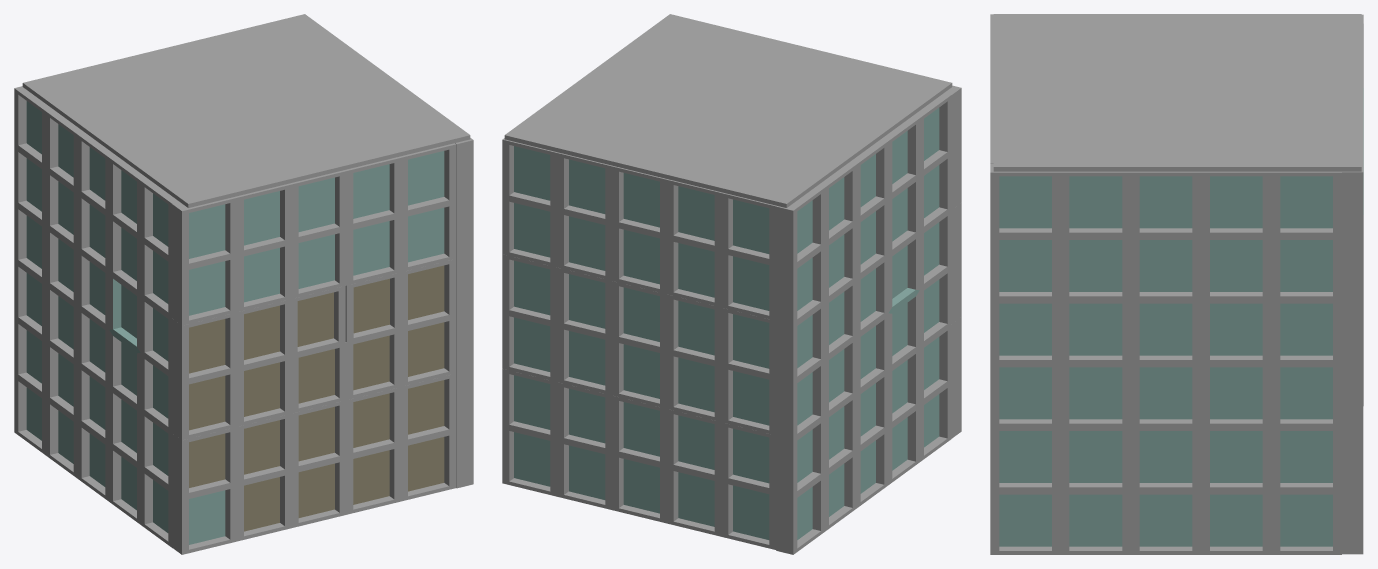
The model's file is Apartment by itself.fbx.
3 renders of one model, left to right at view 1: azimuth 30°, elevation 25°; view 2: azimuth 150°, elevation 25°; view 3: azimuth 270°, elevation 25°, orthographic. The views are drawn at different scales.
Parts seen in each view (by area): view 1: polySurface4576; view 2: polySurface4576; view 3: polySurface4576.
Part boxes in pixels (box(x1,y1,x2,y2)): polySurface4576: box(14, 14, 473, 554); polySurface4576: box(502, 14, 961, 554); polySurface4576: box(990, 14, 1363, 554).
Size of the model in its own units: 639 by 730 by 638.
